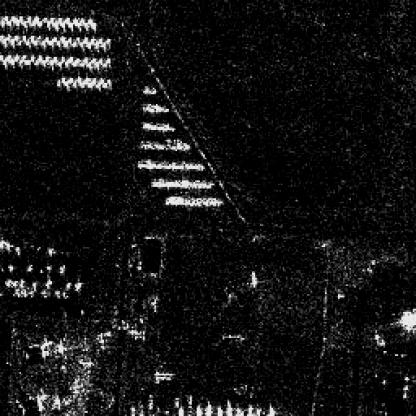airplane: (44, 278, 52, 286), (54, 288, 62, 296), (73, 280, 81, 288), (20, 288, 26, 298), (76, 60, 84, 67), (99, 60, 107, 67), (86, 81, 94, 88), (42, 34, 49, 42), (40, 289, 48, 296), (63, 280, 70, 288), (27, 288, 32, 298), (73, 55, 80, 62), (81, 55, 88, 62), (8, 37, 15, 44), (89, 37, 96, 44), (29, 281, 36, 288), (14, 54, 20, 62), (66, 76, 74, 82), (46, 38, 52, 46), (100, 40, 106, 48), (26, 264, 32, 272), (57, 265, 63, 273), (12, 280, 20, 286), (13, 288, 19, 296), (62, 290, 68, 298), (47, 58, 54, 64), (58, 56, 64, 63), (67, 55, 73, 62), (70, 60, 76, 67), (85, 60, 91, 67), (88, 55, 94, 62), (96, 55, 102, 62), (104, 56, 110, 63), (76, 76, 82, 83), (80, 81, 86, 88), (28, 34, 34, 41), (39, 37, 45, 44), (50, 34, 56, 41), (65, 34, 71, 41), (29, 20, 36, 26), (59, 21, 65, 28), (67, 21, 73, 28), (7, 263, 13, 270), (91, 76, 96, 84), (21, 32, 26, 40), (55, 38, 60, 46), (18, 14, 23, 22), (26, 13, 31, 21), (46, 20, 51, 28), (91, 21, 96, 29), (18, 278, 23, 286), (5, 54, 11, 60), (28, 54, 34, 60), (32, 57, 38, 63), (85, 76, 91, 82), (0, 37, 6, 43), (5, 33, 11, 39), (31, 39, 37, 45), (85, 41, 91, 47), (92, 41, 98, 47), (10, 15, 16, 21), (14, 20, 20, 26), (33, 15, 39, 21), (5, 280, 11, 286), (96, 81, 101, 88), (102, 81, 107, 88), (25, 37, 30, 44), (42, 16, 47, 23), (48, 16, 53, 23), (57, 16, 62, 23), (86, 18, 93, 23), (10, 58, 14, 66), (0, 59, 5, 65), (21, 54, 26, 60), (18, 59, 23, 65), (25, 57, 30, 63), (35, 54, 40, 60), (50, 55, 56, 60), (62, 60, 68, 65), (55, 80, 60, 86), (60, 76, 65, 82), (63, 80, 68, 86), (99, 76, 104, 82), (106, 78, 112, 83), (62, 39, 68, 44), (74, 35, 80, 40), (78, 40, 83, 46), (3, 15, 8, 21), (38, 20, 43, 26), (76, 21, 82, 26), (94, 62, 101, 66), (98, 37, 102, 44), (106, 37, 110, 44), (44, 55, 49, 60), (55, 60, 60, 65), (13, 34, 18, 39), (16, 39, 21, 44), (35, 34, 40, 39), (83, 35, 88, 40), (65, 16, 70, 21), (73, 16, 78, 21), (83, 21, 88, 26), (40, 59, 44, 65), (72, 39, 76, 45), (6, 20, 12, 24), (73, 80, 78, 84), (80, 18, 84, 23), (0, 54, 3, 60), (0, 32, 3, 38), (0, 20, 3, 26), (23, 20, 26, 26), (61, 34, 63, 41), (54, 21, 56, 28)
